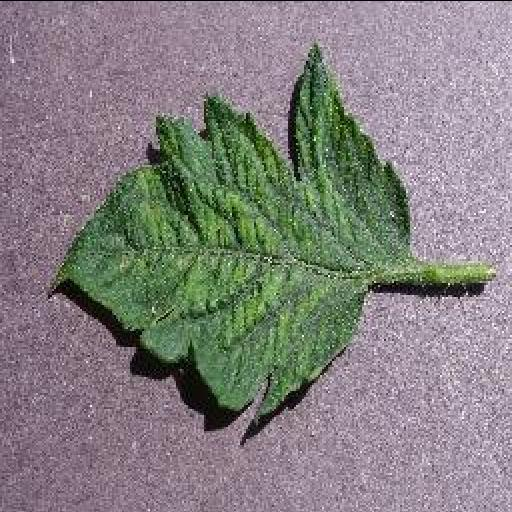Mosaic Virus: (48, 36, 408, 424)
